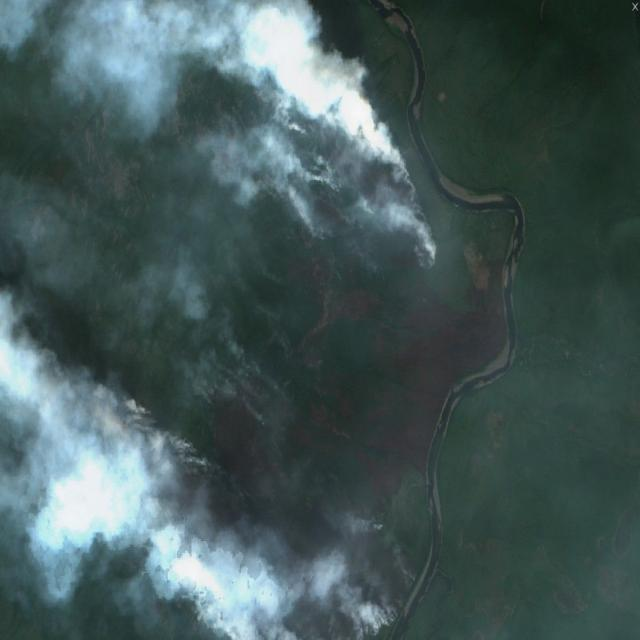fire: (113, 90, 439, 640)
